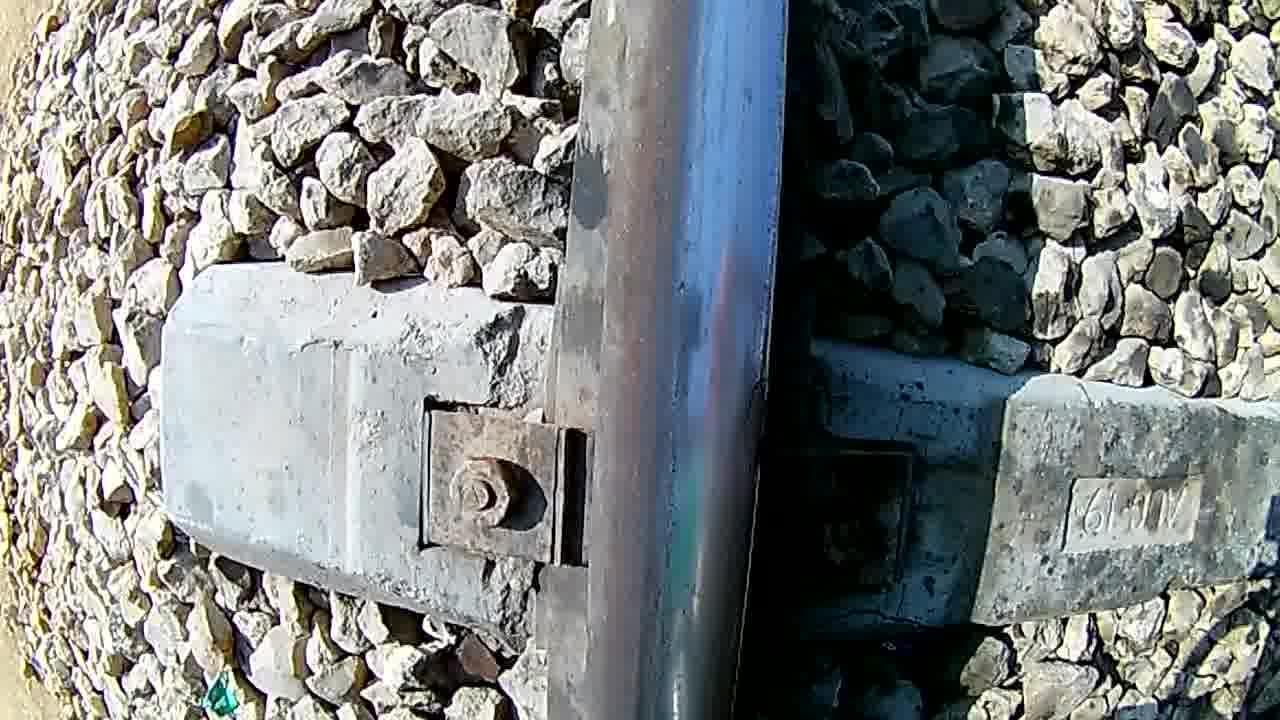crack: (571, 0, 770, 720)
